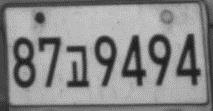4: (120, 34, 146, 87), (175, 32, 201, 85)
7: (36, 36, 61, 88)
8: (12, 36, 36, 88)
9: (93, 35, 117, 86), (148, 33, 171, 86)
고: (65, 45, 90, 87)
